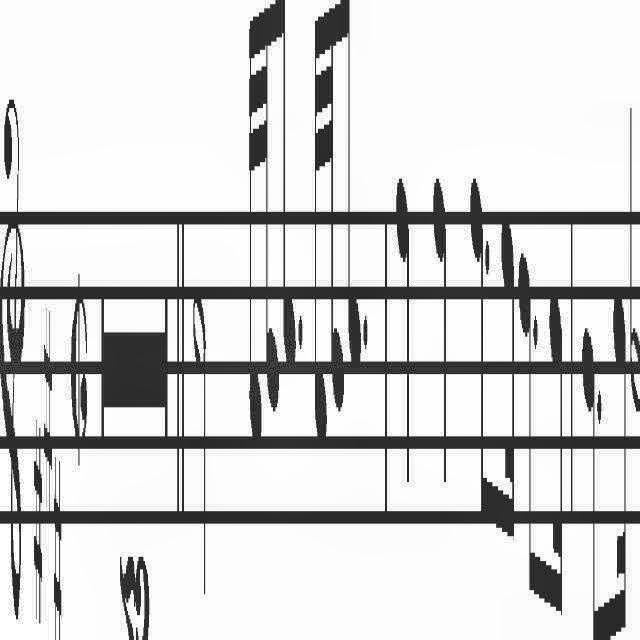Bass-clef: (0, 71, 26, 636)
Diez: (32, 408, 44, 634), (52, 452, 64, 640), (43, 306, 53, 528)
Eighth-note: (344, 1, 364, 396), (516, 245, 536, 608), (279, 1, 297, 392), (468, 171, 486, 545), (580, 324, 596, 640)
Half-note: (190, 275, 208, 613), (627, 95, 640, 432), (639, 95, 640, 432)
Quarter-note: (394, 141, 412, 504), (431, 157, 449, 498)
Sixteenth-note: (609, 283, 626, 640), (500, 208, 516, 564), (548, 284, 564, 640)
